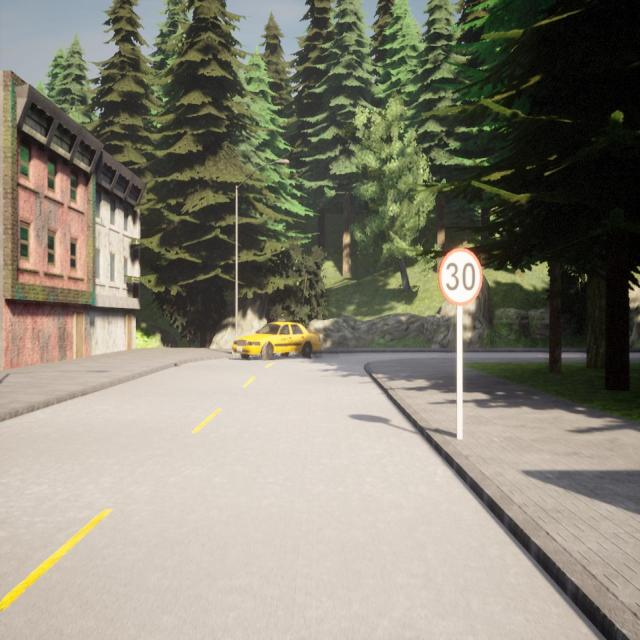Traffic_Signs: (439, 247, 484, 304)
Vehicle: (232, 320, 321, 360)
